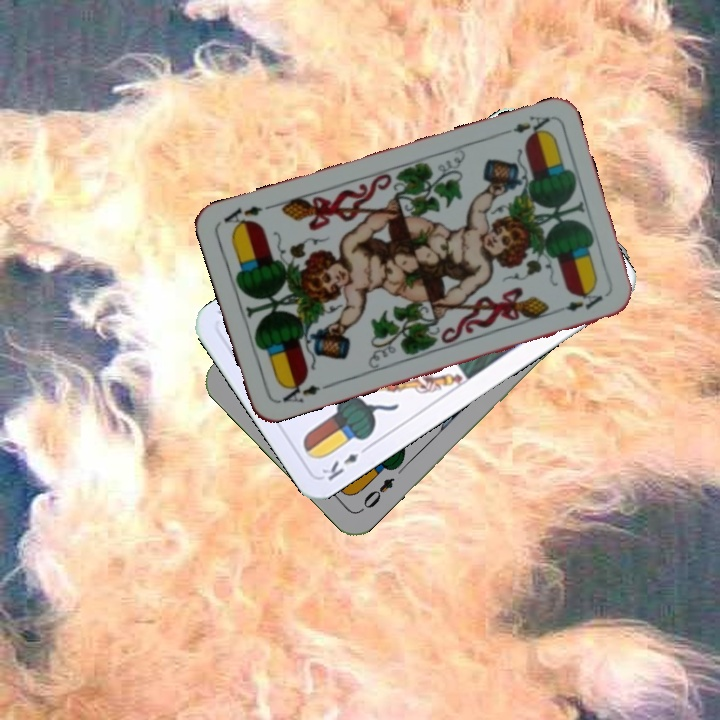EA: (496, 111, 553, 141), (275, 376, 323, 406)
EK: (317, 441, 372, 484)
EO: (356, 473, 397, 515)
